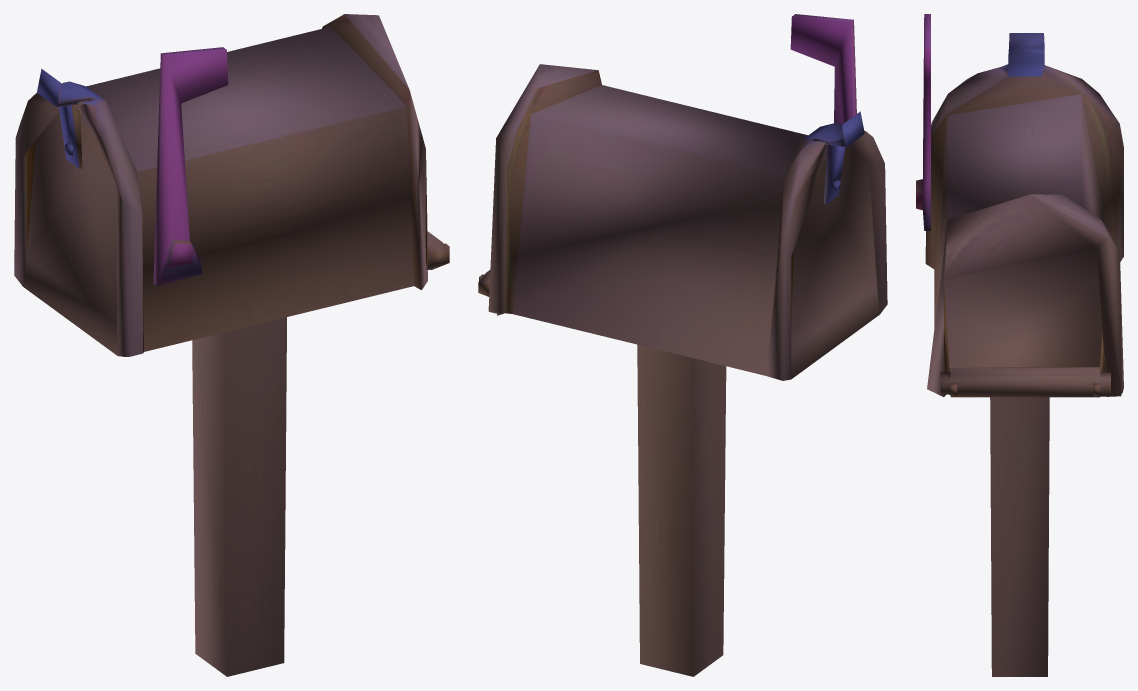
The model's file is model.progressive.glb.
The picture shows the model from 3 angles, left to right: view 1: azimuth 30°, elevation 25°; view 2: azimuth 150°, elevation 25°; view 3: azimuth 270°, elevation 25°; orthographic projection. The views are drawn at different scales.
Visible parts, largest first — view 1: material; view 2: material; view 3: material.
Boxes of the visible parts, x1,y1,x2,y2 form: material: (14, 14, 449, 676); material: (478, 14, 887, 676); material: (916, 14, 1123, 676).
Bounding box in the file's own units: 1.06 × 1.89 × 0.5997.
1 material, 1 textured.
